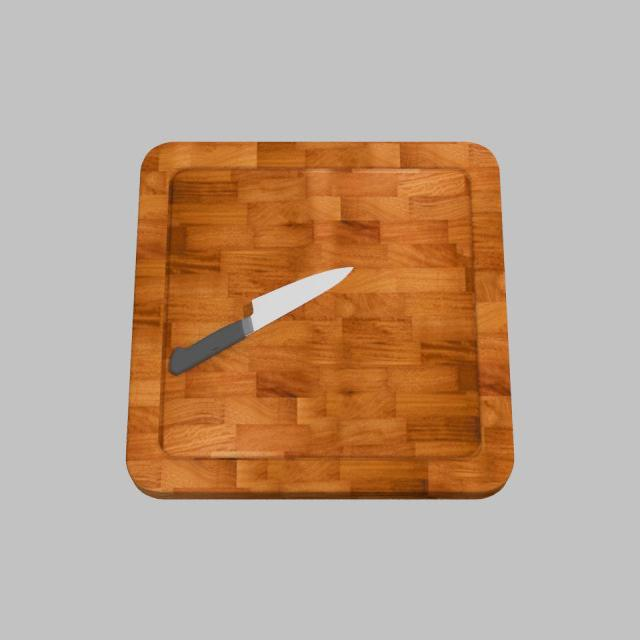knife: (170, 320, 247, 376)
